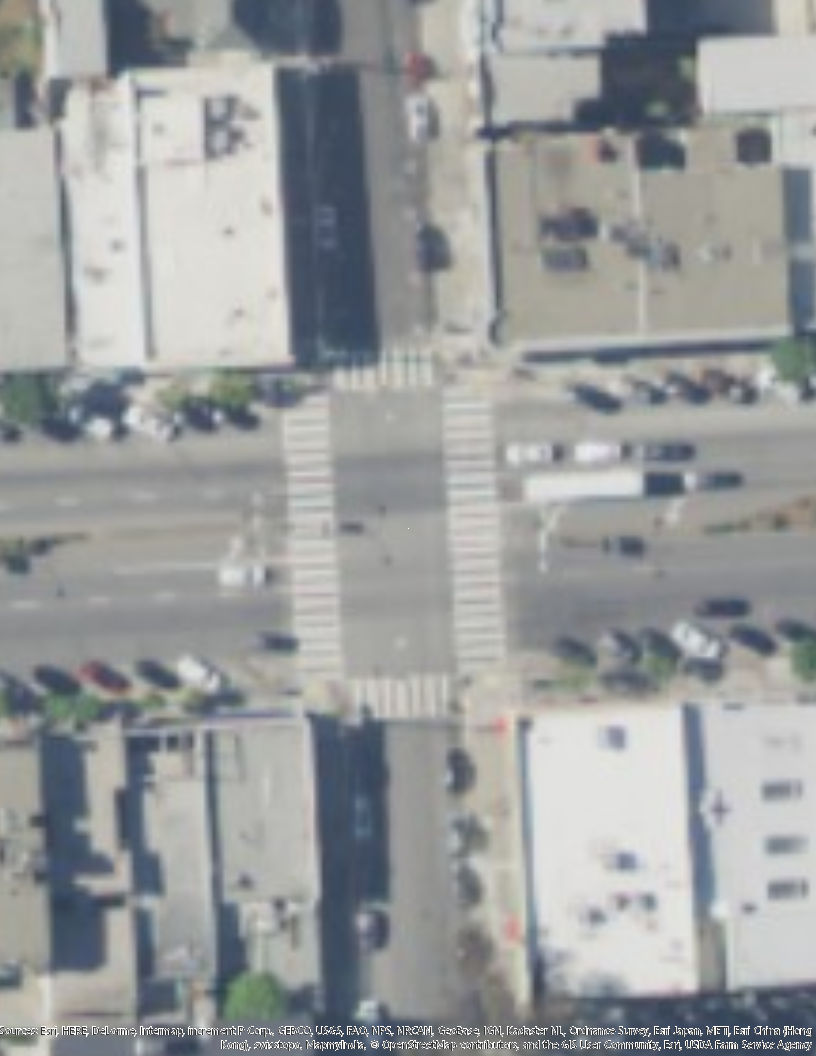zebracross: (281, 387, 345, 675), (442, 391, 509, 665), (347, 675, 452, 721), (321, 347, 437, 386)
